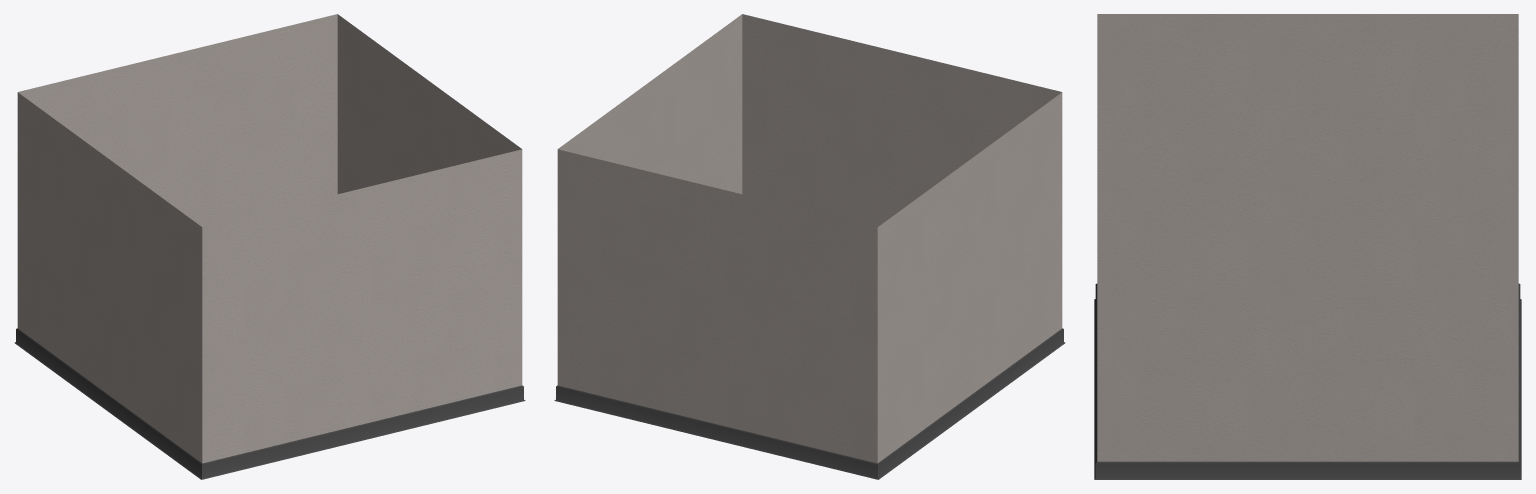
Rendered from PillarBig.glb.
3 views of the same model, side by side, from view 1: azimuth 30°, elevation 25°; view 2: azimuth 150°, elevation 25°; view 3: azimuth 270°, elevation 25° (orthographic). The views are drawn at different scales.
Visible parts, largest first — view 1: PillarBig; view 2: PillarBig; view 3: PillarBig.
Boxes of the visible parts, <box> form: PillarBig: <box>14,14,525,479</box>; PillarBig: <box>554,14,1065,479</box>; PillarBig: <box>1094,14,1521,479</box>.
Size of what is drawn, in the model's own units: 4.71 by 3.49 by 4.71.
Materials: 2 (1 with a texture image).
